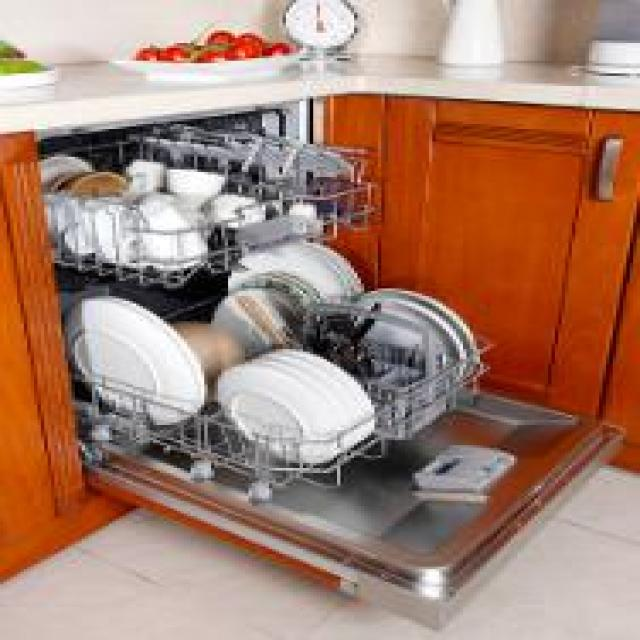dishwasher: (31, 96, 620, 627)
